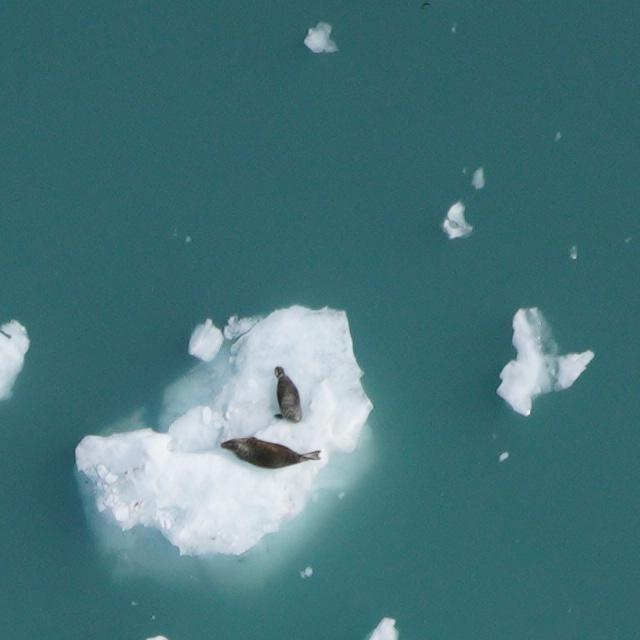seal: (223, 435, 320, 467), (272, 366, 301, 423)
